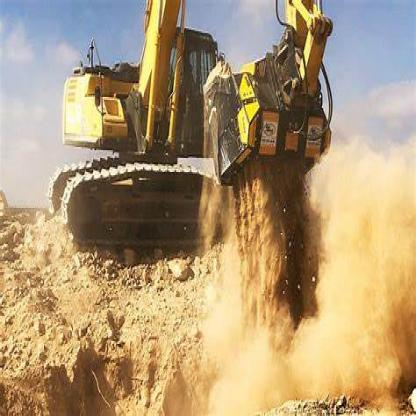excavator: (57, 5, 334, 283)
